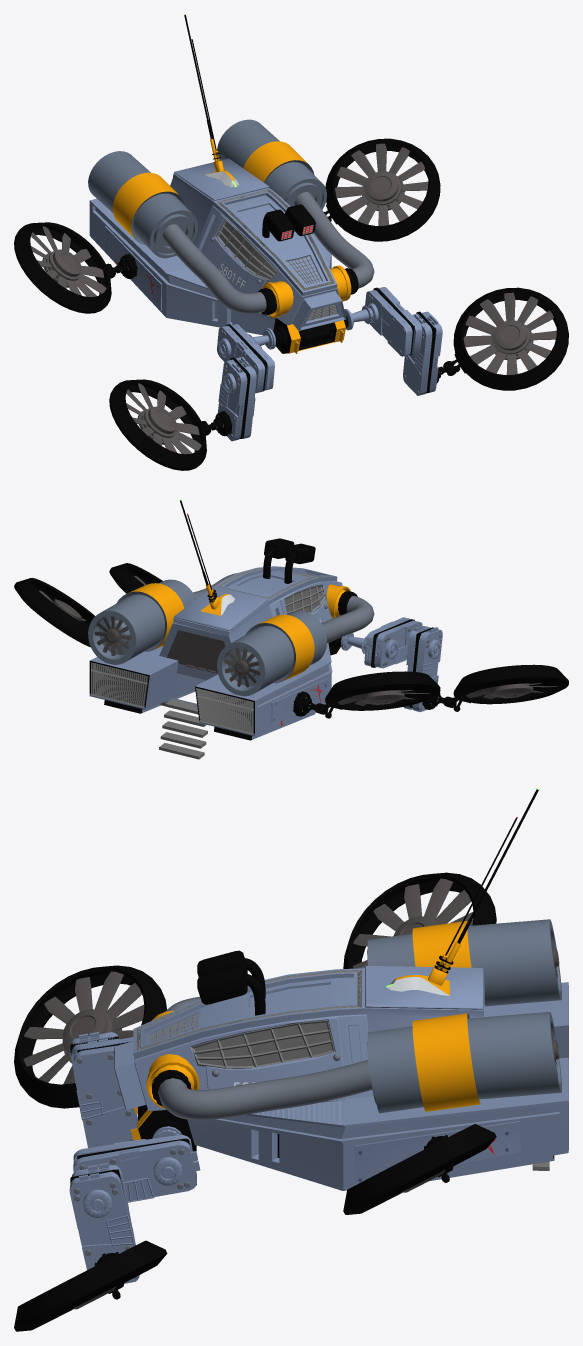
Rendered from SciFiDrone.glb.
3 views of the same model, one above another, from view 1: azimuth 30°, elevation 25°; view 2: azimuth 150°, elevation 25°; view 3: azimuth 270°, elevation 25° (orthographic). The views are drawn at different scales.
Visible parts, largest first — view 1: HEAD BODY _38, Cylinder.003_0, Plane.004_40, 11_LP.001_35, 11_LP.003_33, Plane.006_41, 11_LP.002_36, 11_LP.006_34, NurbsPath_1, Plane.007_42, Plane.009_44, HEAD BODY .004_50 (+4 smaller); view 2: Cylinder.003_0, Plane.006_41, HEAD BODY _38, 11_LP.003_33, 11_LP.001_35, Plane.004_40, Cube.005_2, Cube.002_32, Plane.001_39, 11_LP.007_37, NurbsPath_1, Plane.009_44 (+6 smaller); view 3: Cylinder.003_0, Plane.006_41, HEAD BODY _38, Plane.004_40, 11_LP.001_35, 11_LP.003_33, NurbsPath_1, 11_LP.002_36, Plane.011_46, 11_LP.006_34, Plane.009_44, 38_LP.002_20 (+4 smaller).
Boxes of the visible parts, box(x1,y1,x2,y2) form: HEAD BODY _38: box(170, 158, 346, 330); Cylinder.003_0: box(88, 119, 326, 258); Plane.004_40: box(217, 287, 442, 441); 11_LP.001_35: box(109, 287, 568, 470); 11_LP.003_33: box(14, 138, 440, 313); Plane.006_41: box(89, 198, 331, 335); 11_LP.002_36: box(126, 292, 556, 454); 11_LP.006_34: box(31, 143, 428, 296); NurbsPath_1: box(162, 192, 374, 313); Plane.007_42: box(273, 318, 345, 353); Plane.009_44: box(262, 204, 315, 241); HEAD BODY .004_50: box(262, 265, 351, 317); Cylinder.003_0: box(88, 579, 326, 696); Plane.006_41: box(89, 643, 332, 740); HEAD BODY _38: box(159, 566, 342, 680); 11_LP.003_33: box(14, 578, 440, 718); 11_LP.001_35: box(109, 563, 568, 711); Plane.004_40: box(341, 617, 442, 712); Cube.005_2: box(91, 662, 253, 734); Cube.002_32: box(159, 699, 207, 759); Plane.001_39: box(167, 630, 225, 672); 11_LP.007_37: box(94, 616, 260, 687); NurbsPath_1: box(193, 573, 374, 643); Plane.009_44: box(263, 538, 315, 583); Cylinder.003_0: box(367, 919, 561, 1113); Plane.006_41: box(187, 982, 568, 1190); HEAD BODY _38: box(114, 965, 484, 1111); Plane.004_40: box(69, 1032, 200, 1283); 11_LP.001_35: box(14, 965, 167, 1331); 11_LP.003_33: box(343, 872, 496, 1214); NurbsPath_1: box(158, 965, 372, 1120); 11_LP.002_36: box(23, 971, 144, 1309); Plane.011_46: box(194, 1022, 332, 1066); 11_LP.006_34: box(352, 878, 473, 1192); Plane.009_44: box(197, 950, 265, 1015); 38_LP.002_20: box(386, 788, 539, 995).
Size of the model in its own units: 30.72 by 19.2 by 22.46.
13 materials, 2 textured.
